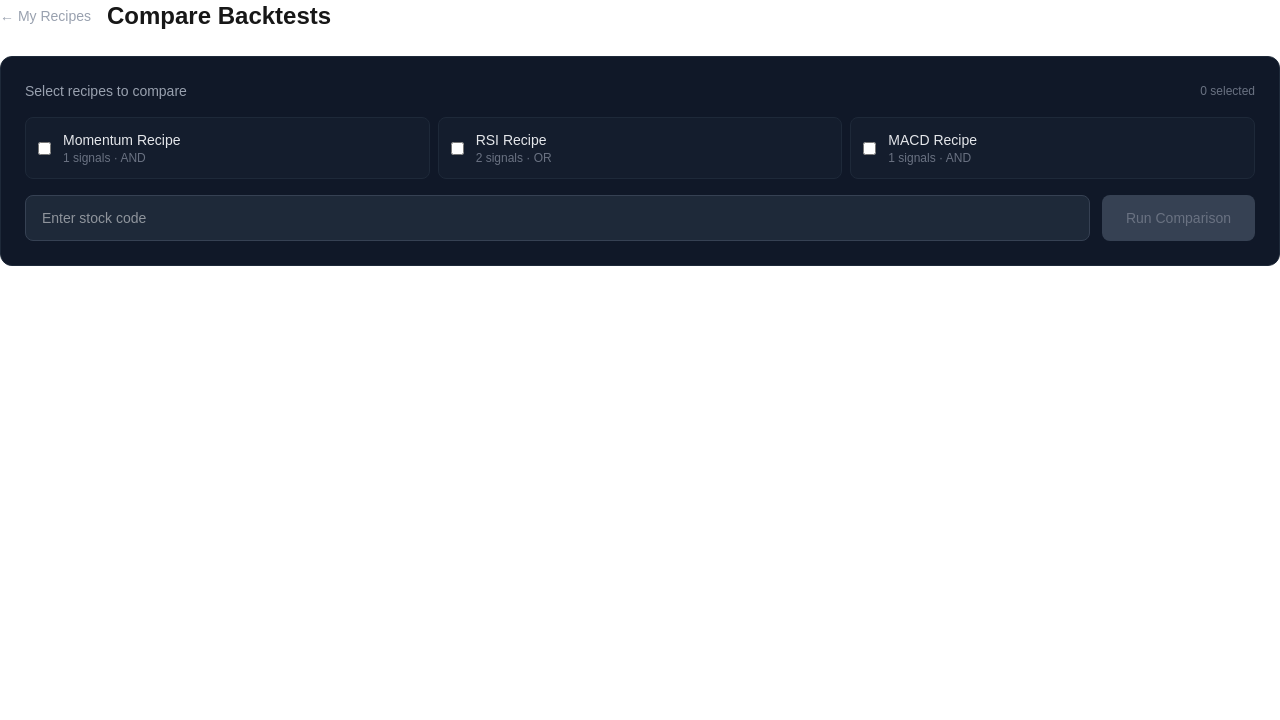
RecipeComparePage › shows metrics table when switching tab
Expected: the text "Momentum Recipe" is shown, [63,132,180,148]
Click the checkbox labelled "Momentum Recipe 1 signals · AND": [44, 148] box [38,142,51,154]
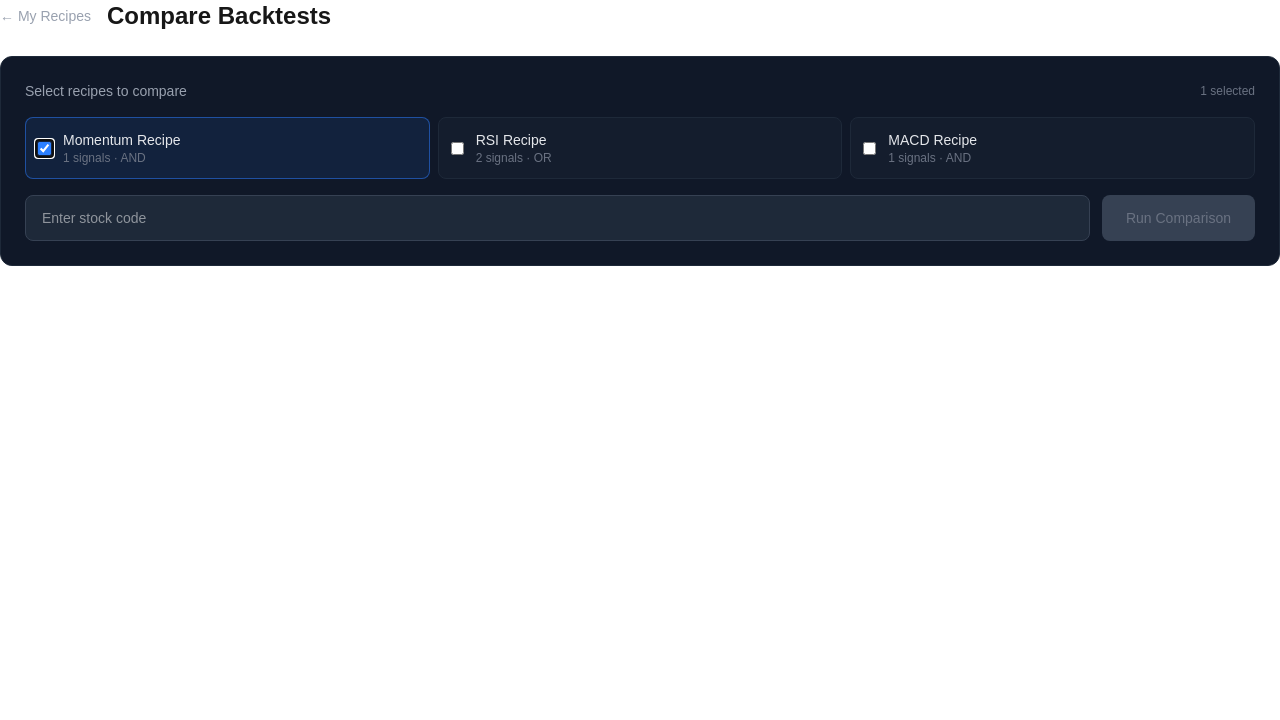
Click the checkbox labelled "RSI Recipe 2 signals · OR": [457, 148] box [451,142,464,154]
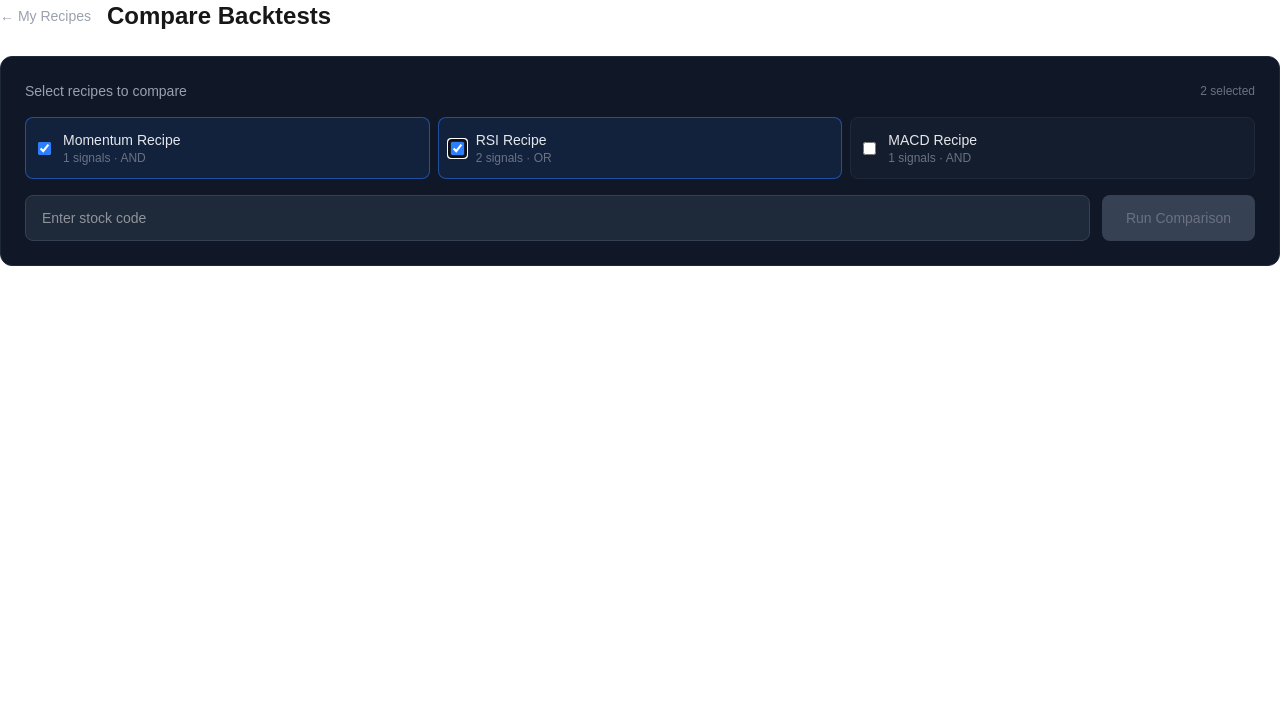
In the field with placeholder "Enter stock code": [557, 218] box [25,195,1090,241], type "005930"
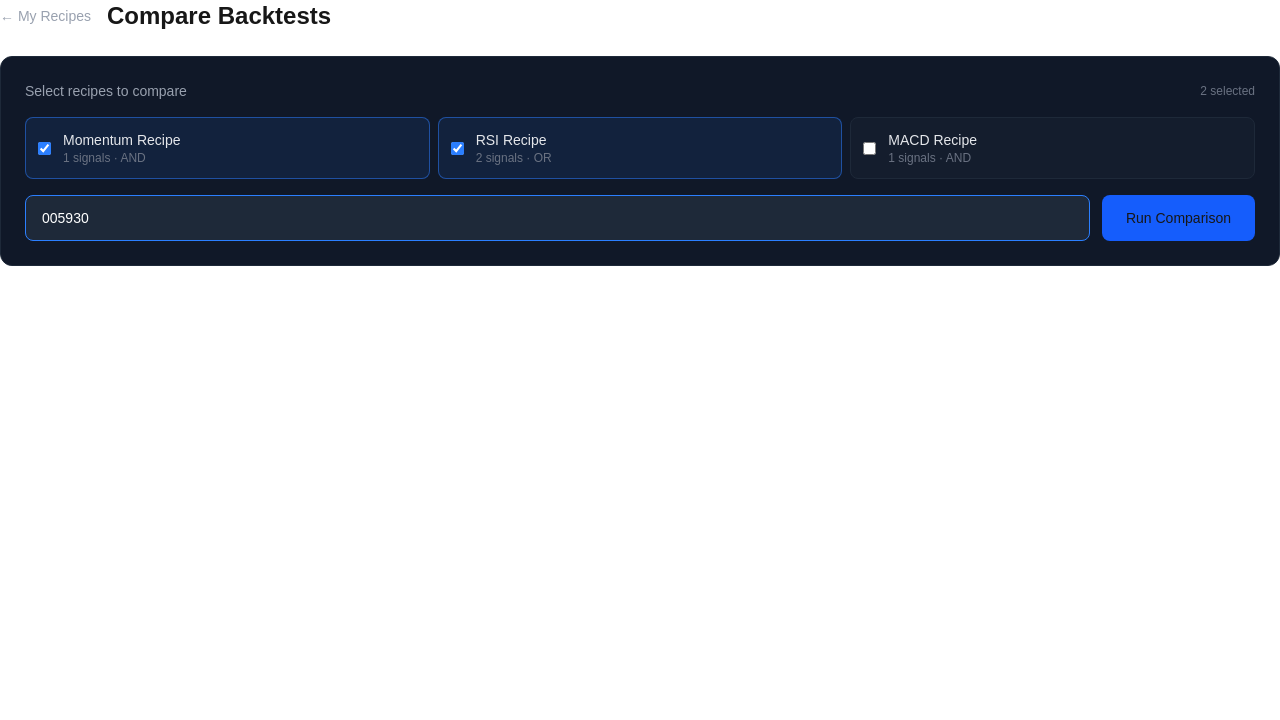
Click the button "Run Comparison": [1178, 218] box [1102,195,1255,241]
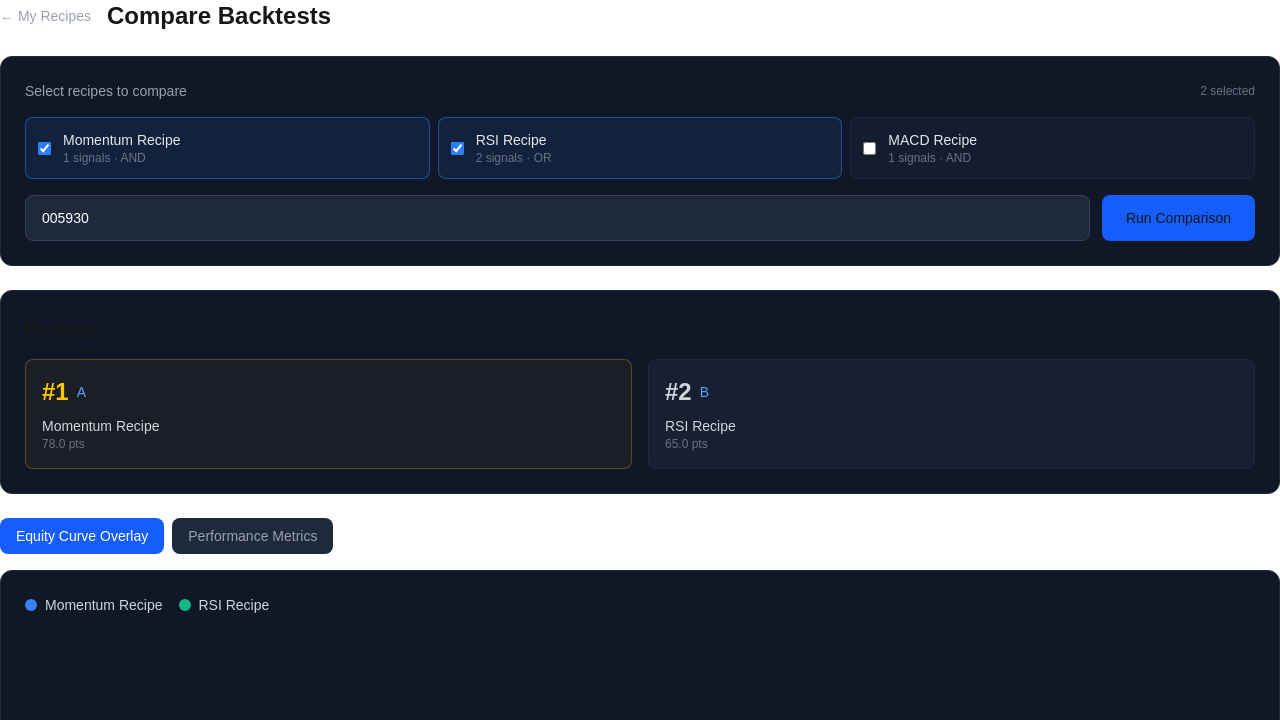
Expected: the text "#1" is shown, [42,376,69,408]
// Switch to metrics tab
Click the button "Performance Metrics": [253, 536] box [172,518,334,554]
(page scrolled)
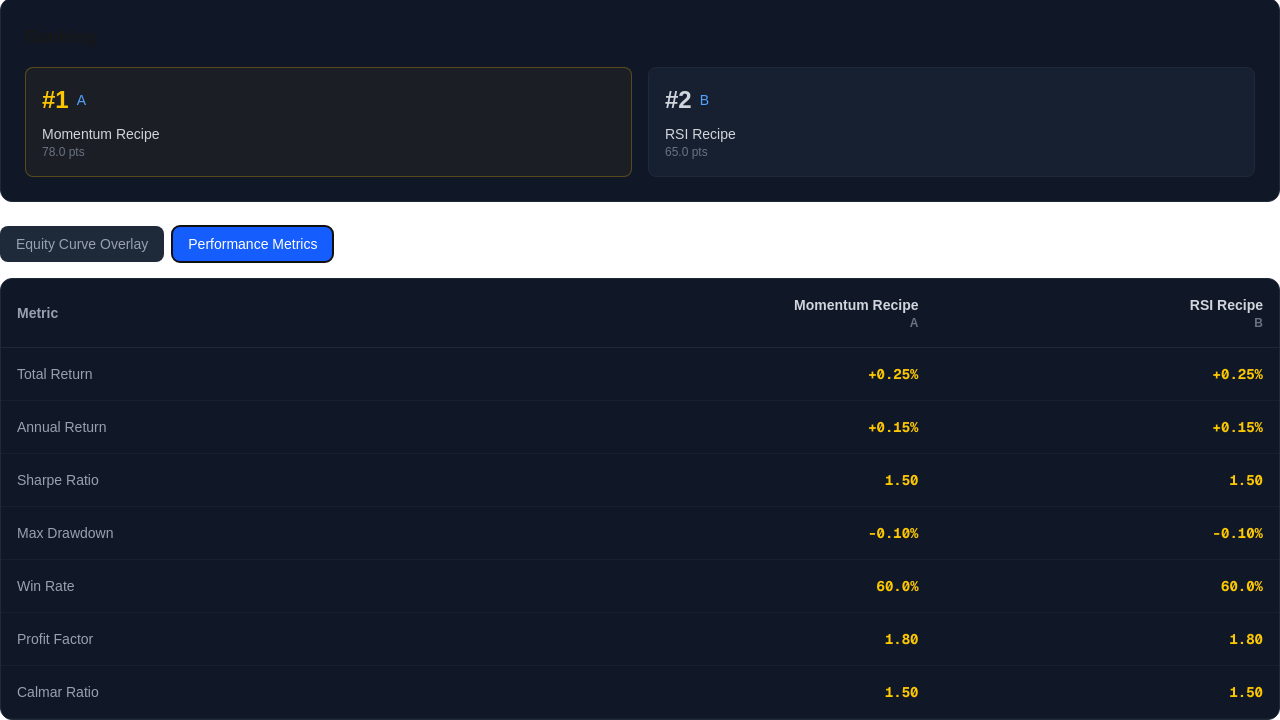
Expected: the text "Total Return" is shown, [1,348,422,400]
Expected: the text "Win Rate" is shown, [1,560,422,612]
